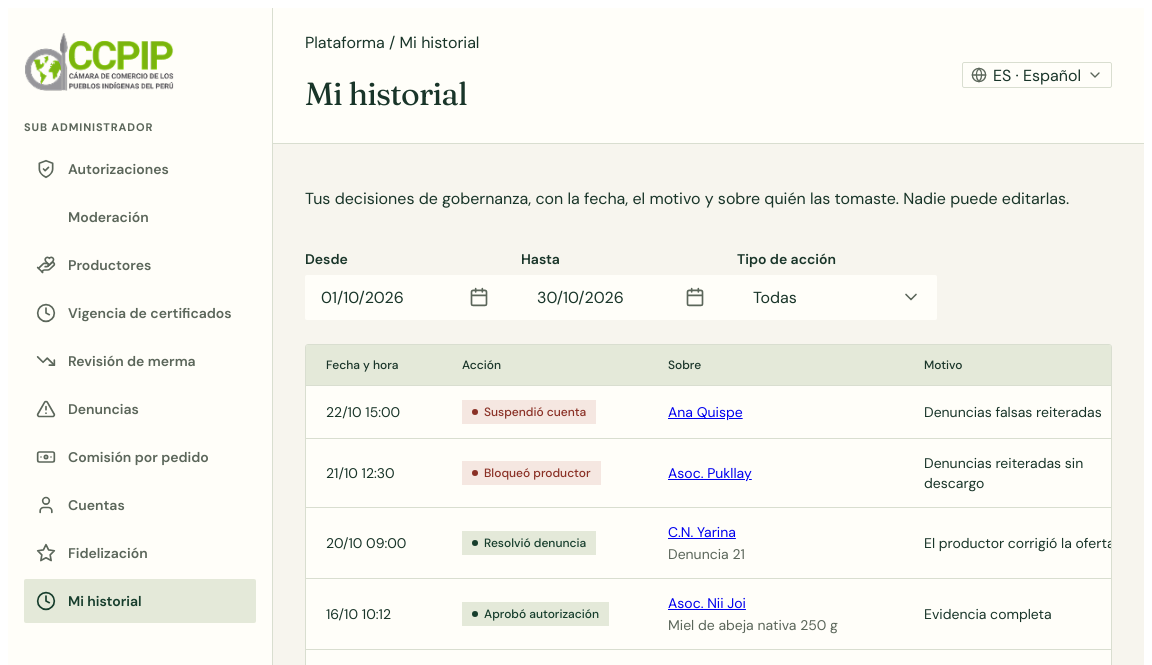
S-05 Mi historial del sub administrador (CCPIP-126) › ignora una respuesta antigua que llega después de la consulta más reciente
Clear the field labelled "Desde" at [439, 297], box [305,275,573,320]
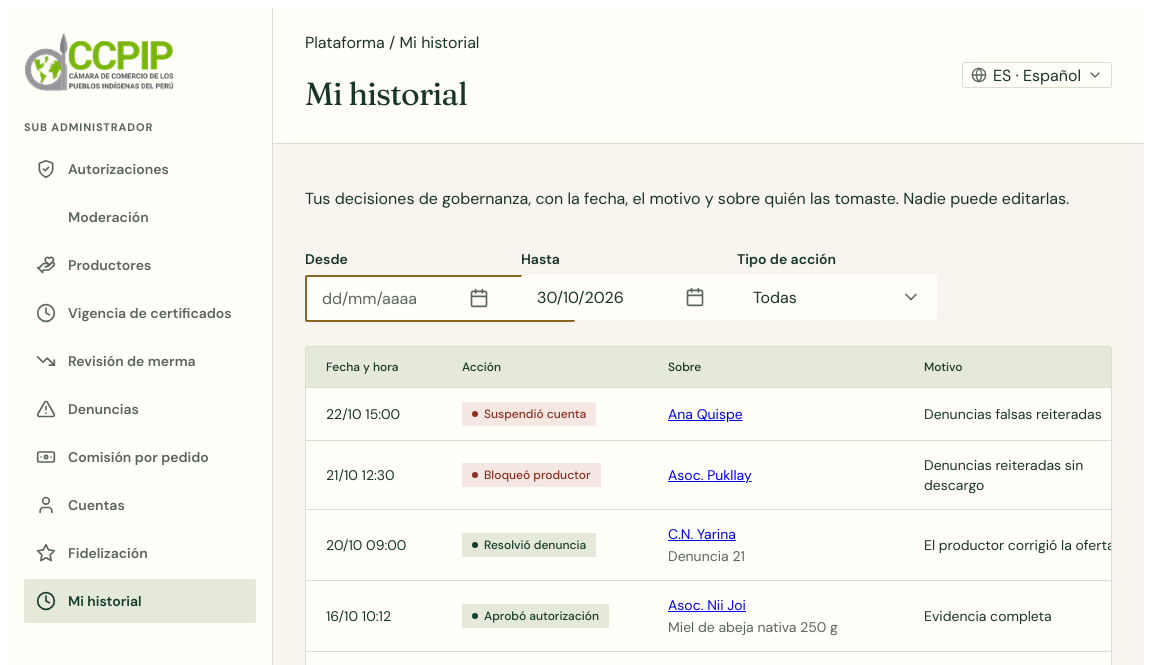
Type "01/09/2026" into the field labelled "Desde" at [440, 298], box [305,275,575,322]
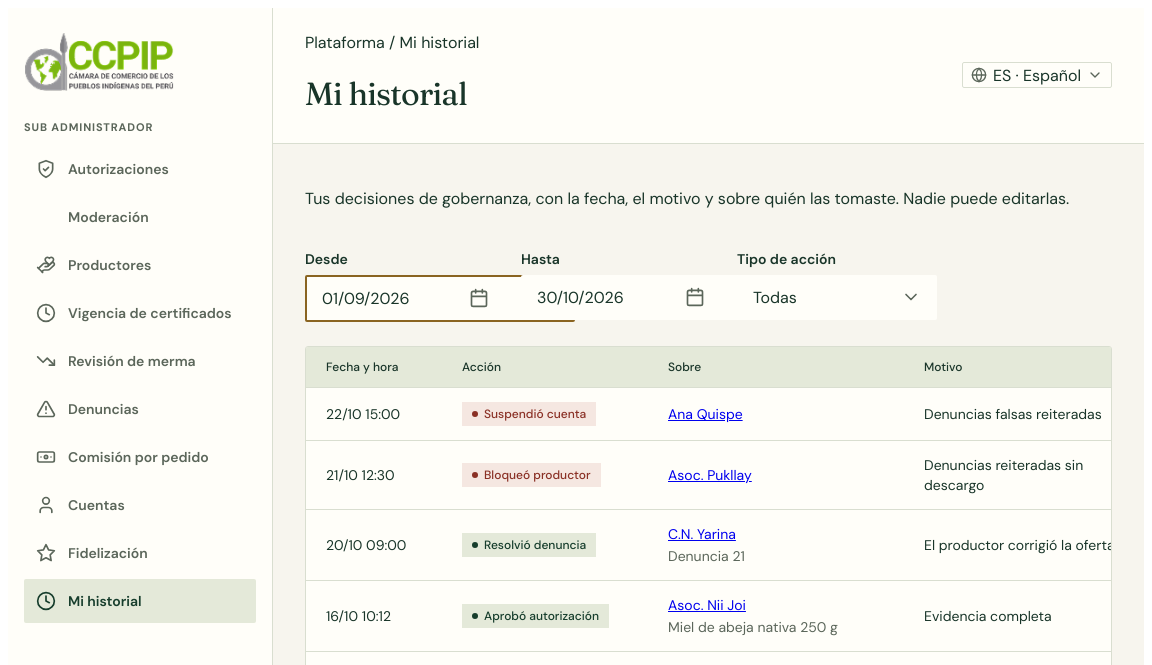
Replace the text in the field labelled "Desde" with "02/09/2026" at [440, 298], box [305,275,575,322]
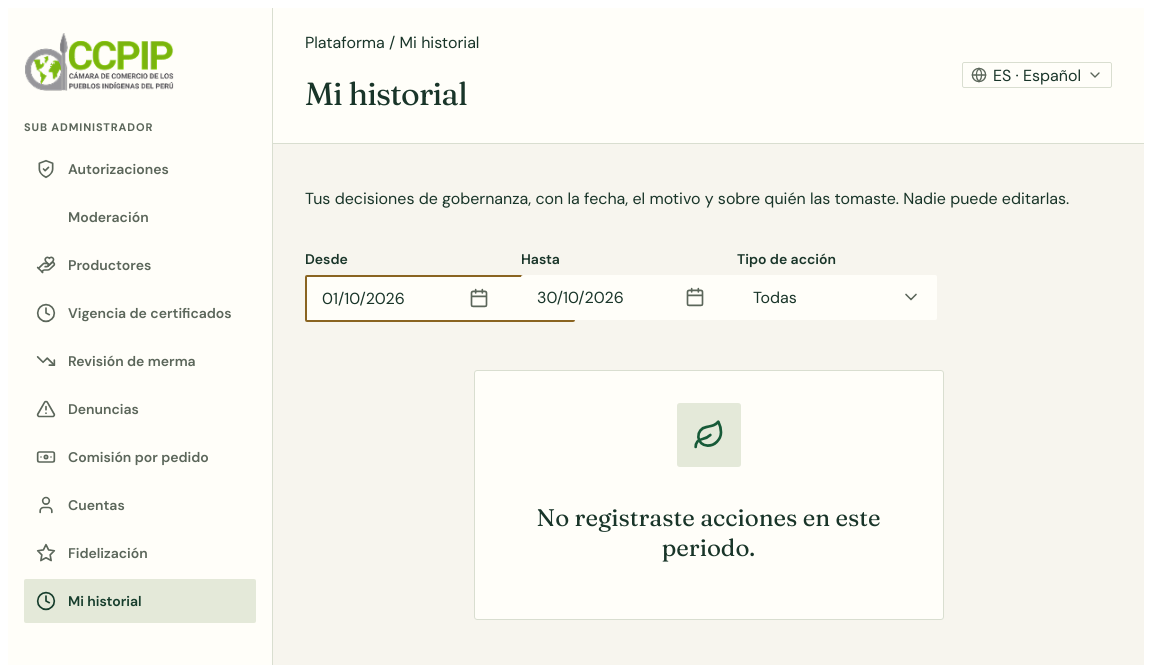
Check: the text "No registraste acciones en este periodo." is shown, box [537,503,880,562]
